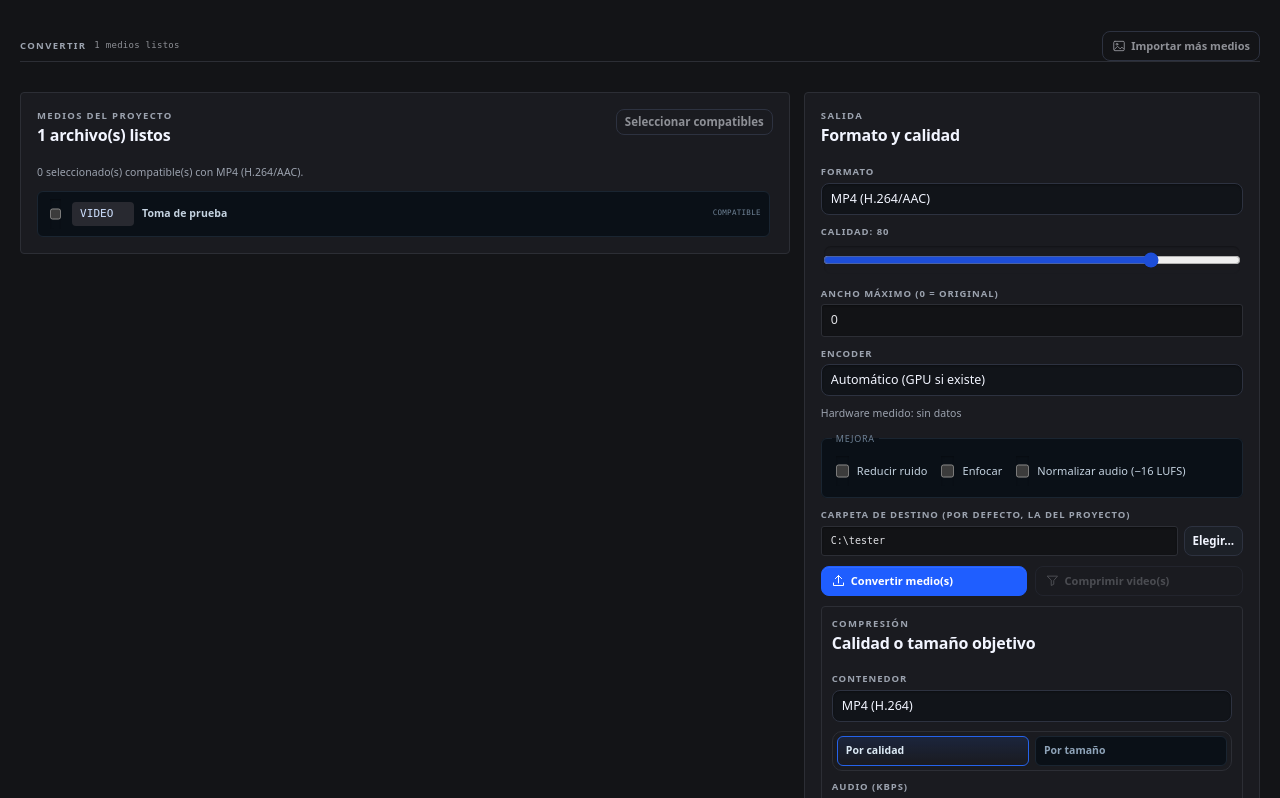
Test: ConvertView · lote, compresión y formatos › convierte el lote por el comando de lote y muestra el ahorro
The image size is (1280, 798).
Click the button "Seleccionar compatibles". click: [694, 122]
box: [616,109,773,135]
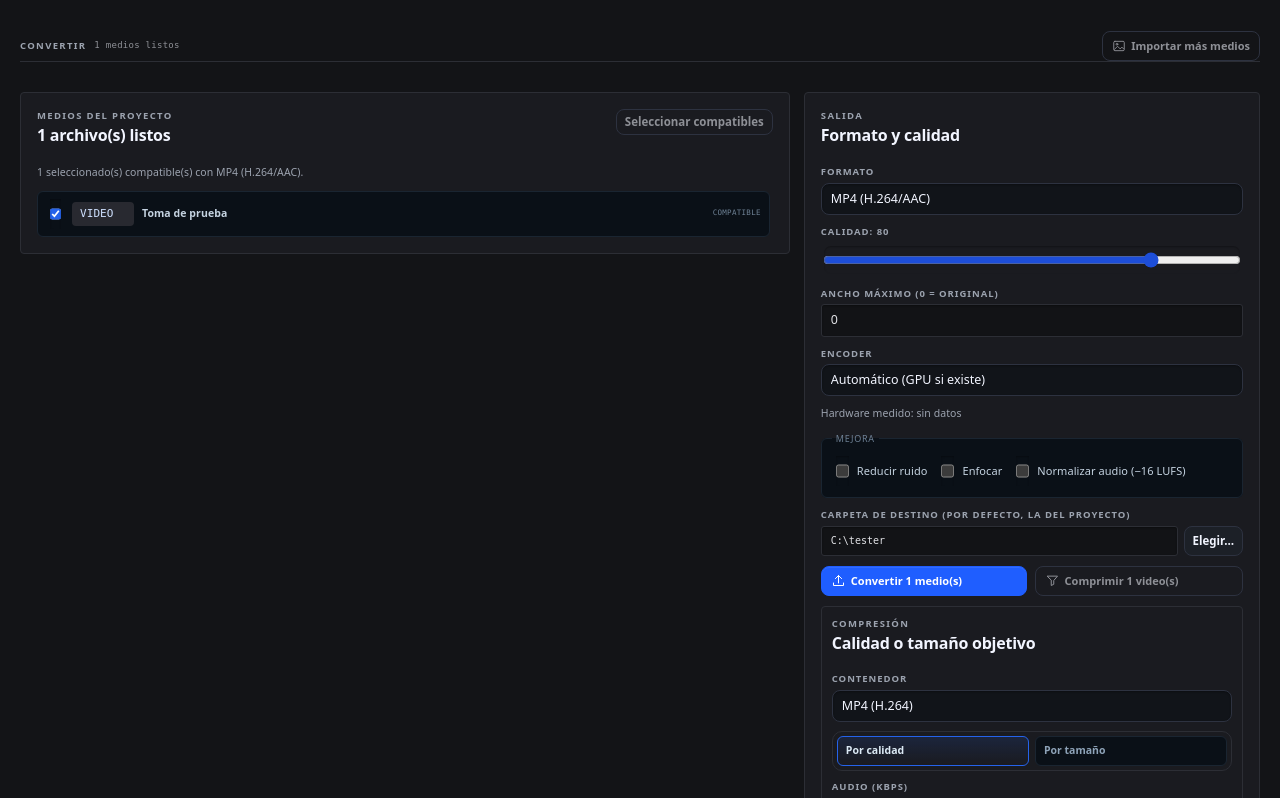
Click the button "Convertir 1 medio(s)". click: [924, 581]
box: [821,566,1027,596]
(page scrolled)
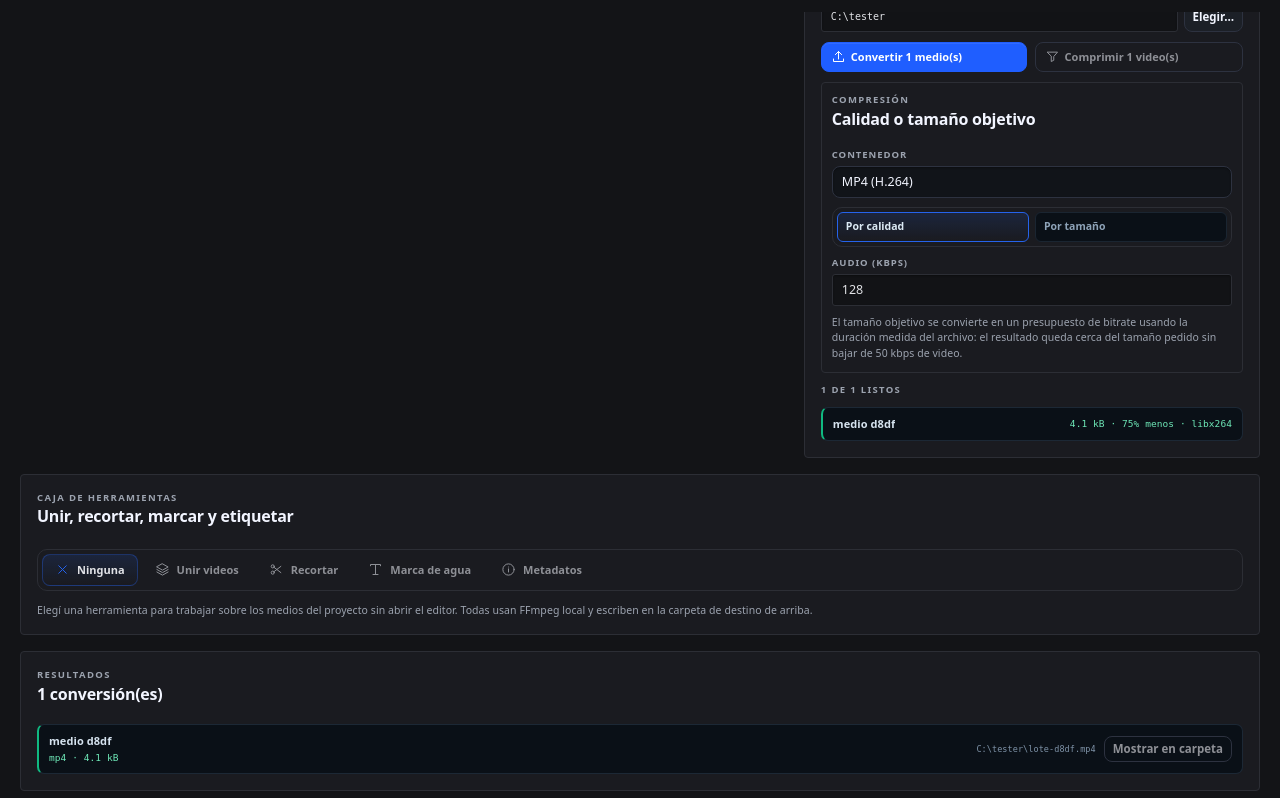
Expected: the text "1 de 1 listos" is shown, [821,383,901,396]
Expected: the message with class "convert-results" shows "75% menos", [1105,418,1174,429]
Expected: the message with class "convert-results" shows "libx264", [1174,418,1232,429]
